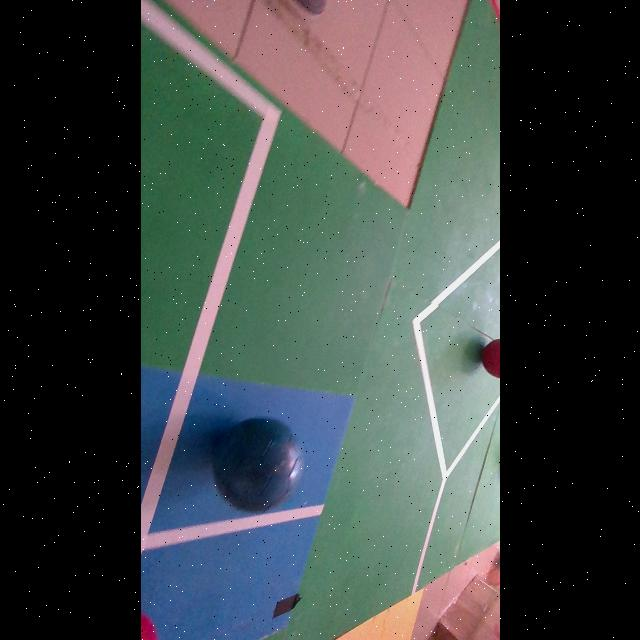B: (213, 417, 304, 513)
R: (481, 339, 500, 378)
